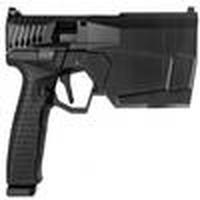gun: (4, 11, 200, 188)
